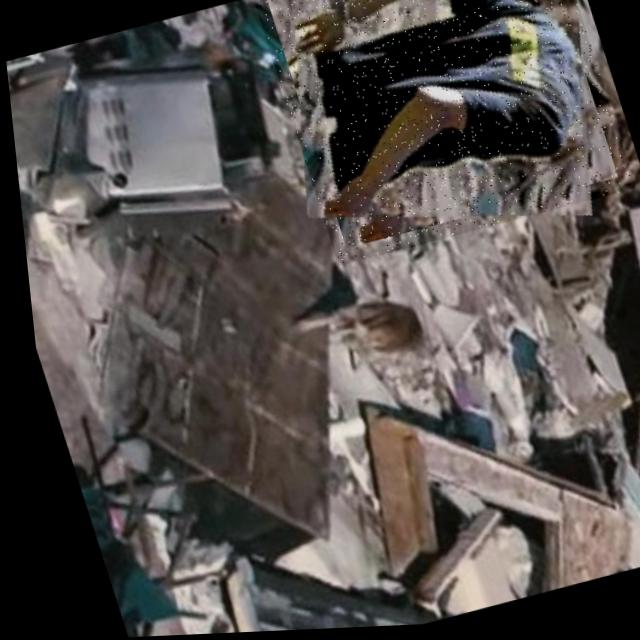Person in Rubble: (250, 0, 635, 270)
